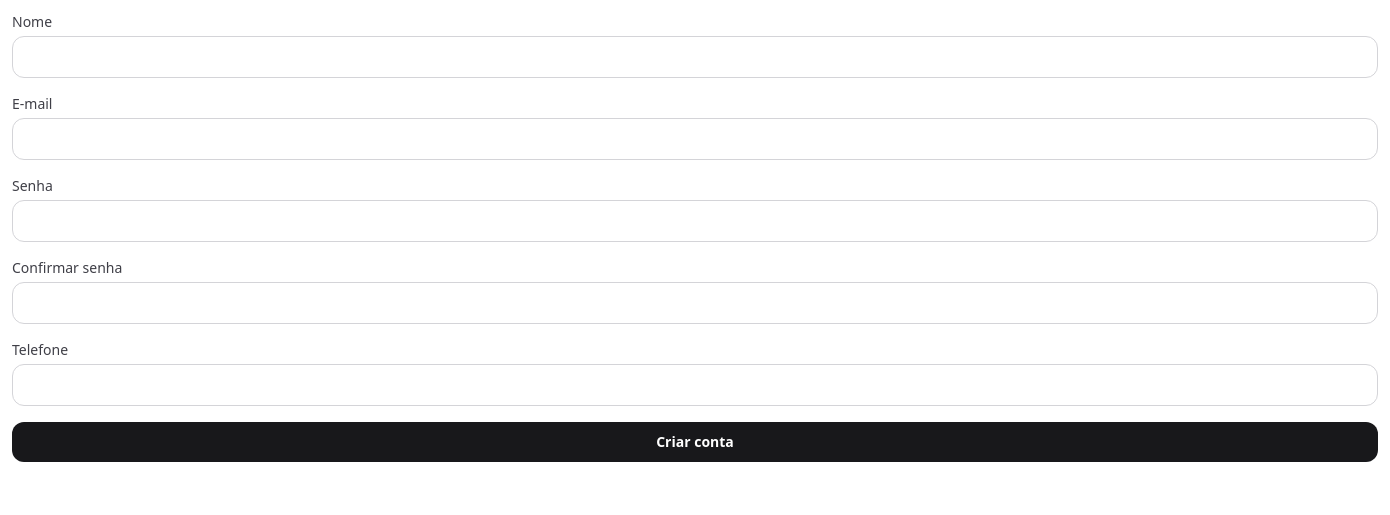
Test: SignupForm — Firebase error messages › network-request-failed shows Erro de conexão.
Type "João Silva" into the field labelled "Nome" at (695, 57), box [12,36,1378,78]
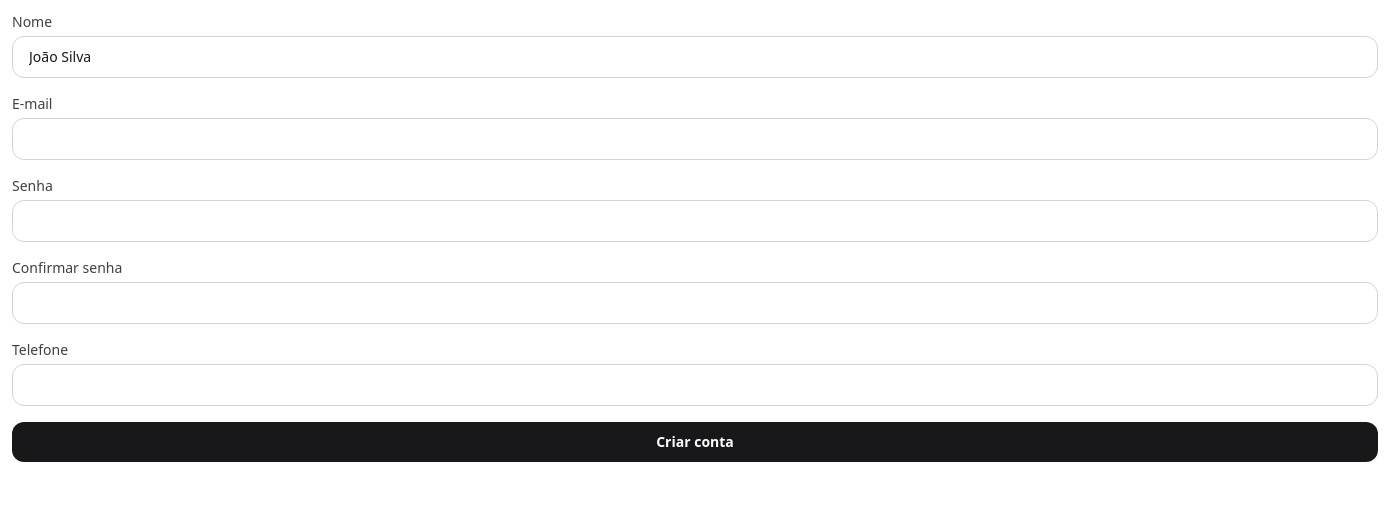
Type "joao@test.com" into the field labelled "E-mail" at (695, 139), box [12,118,1378,160]
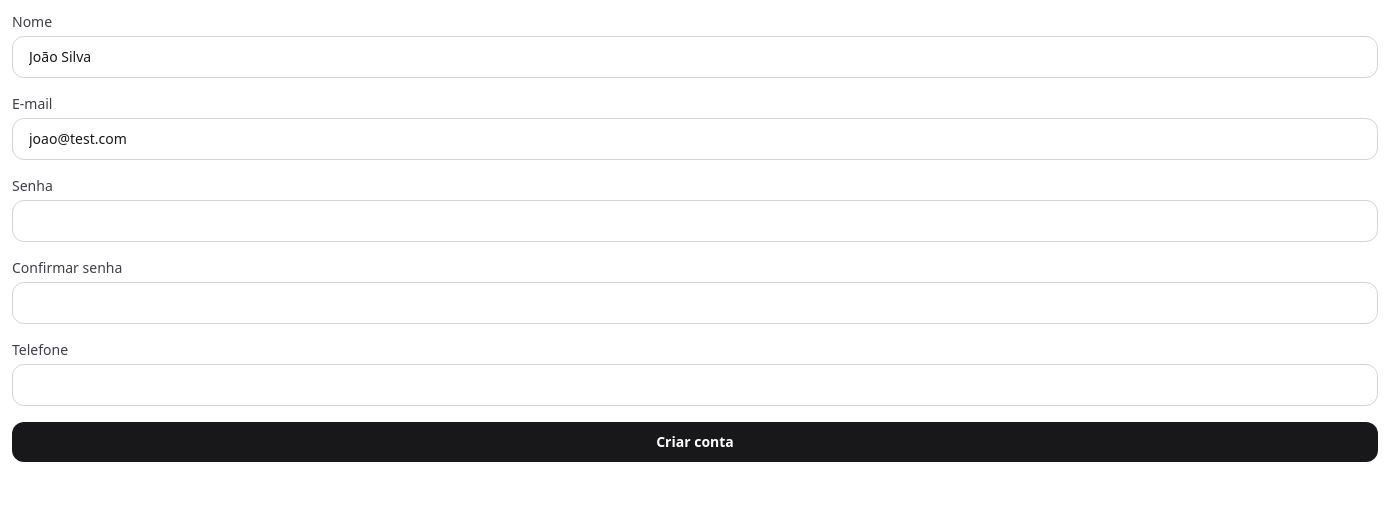
Type "pass123" into the password field labelled "Senha" at (695, 221), box [12,200,1378,242]
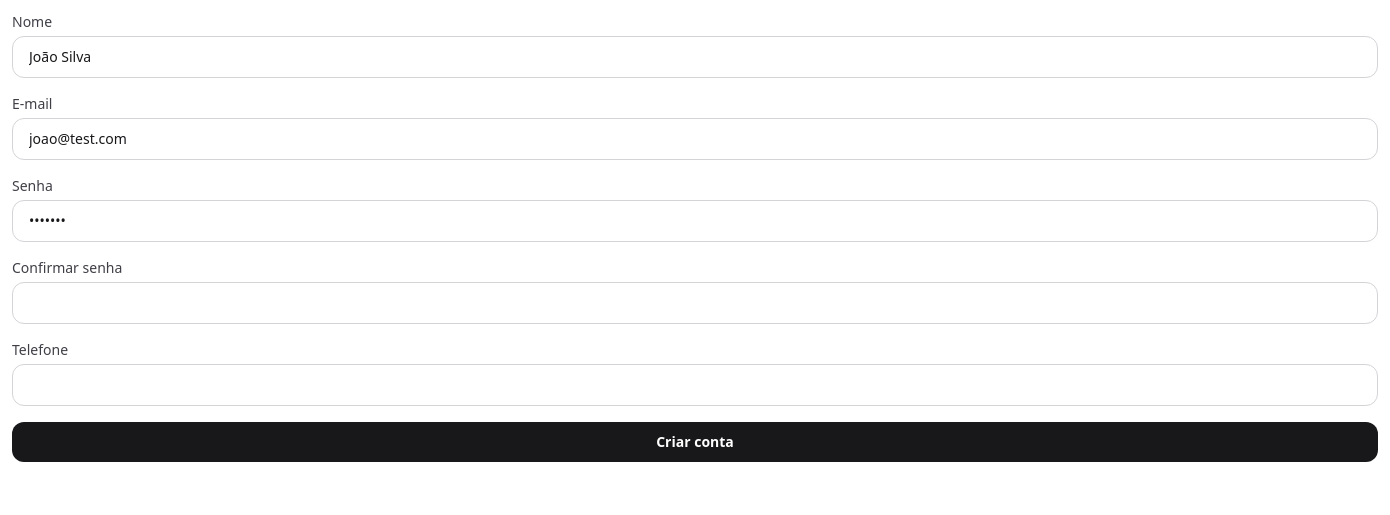
Type "pass123" into the password field labelled "Confirmar senha" at (695, 303), box [12,282,1378,324]
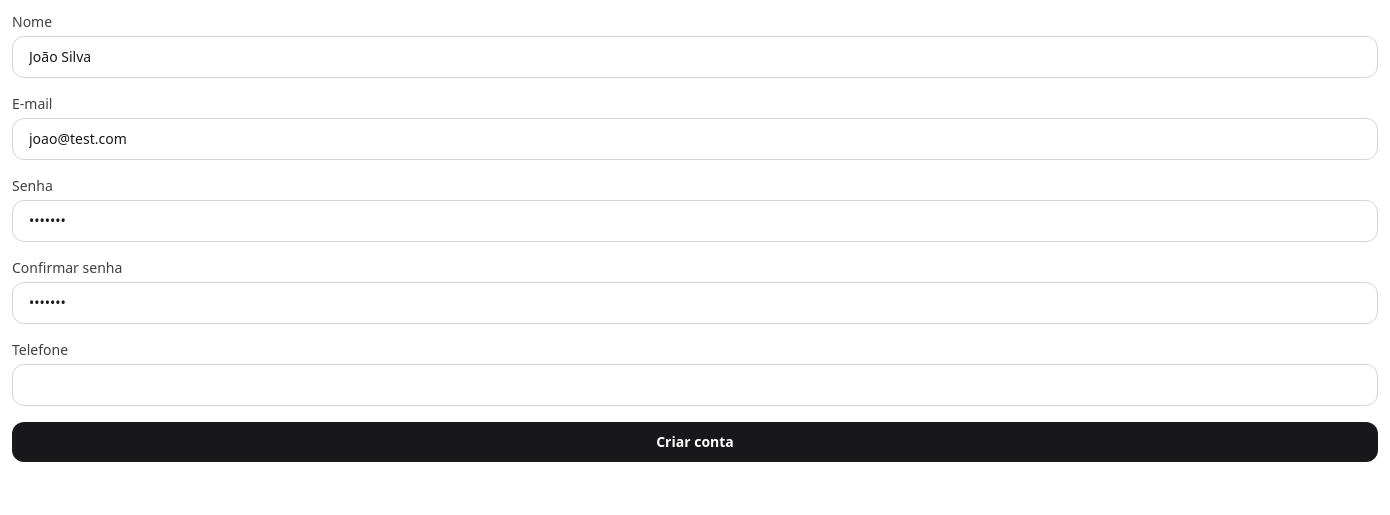
Click the button "Criar conta" at (695, 442), box [12,422,1378,462]
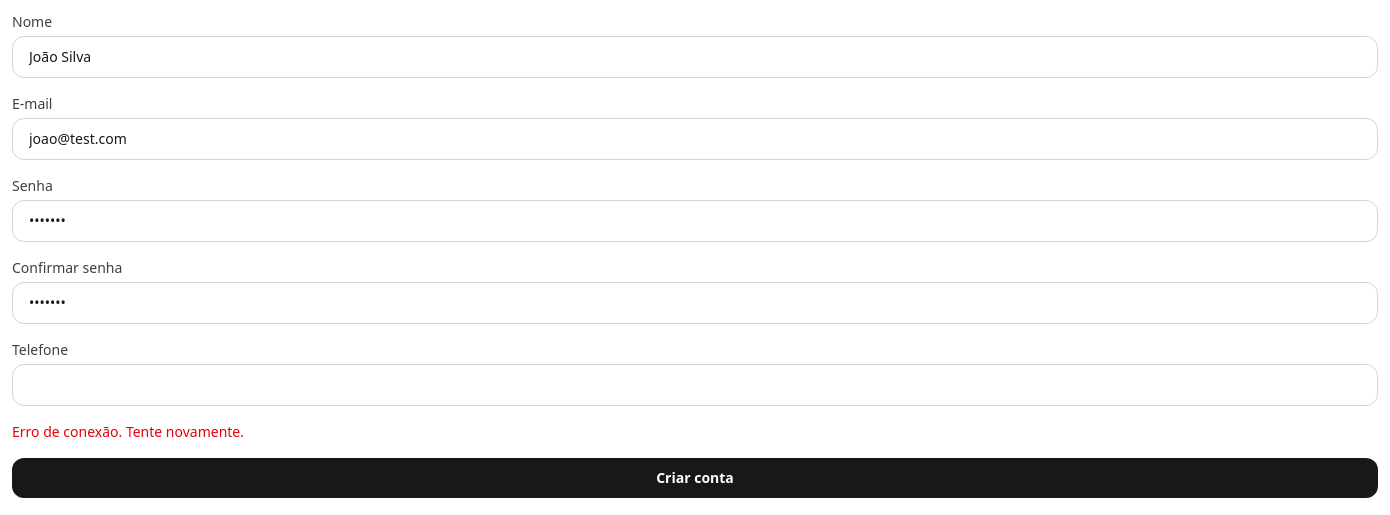
expect the message shows "Erro de conexão.": met, box [12,422,244,441]
